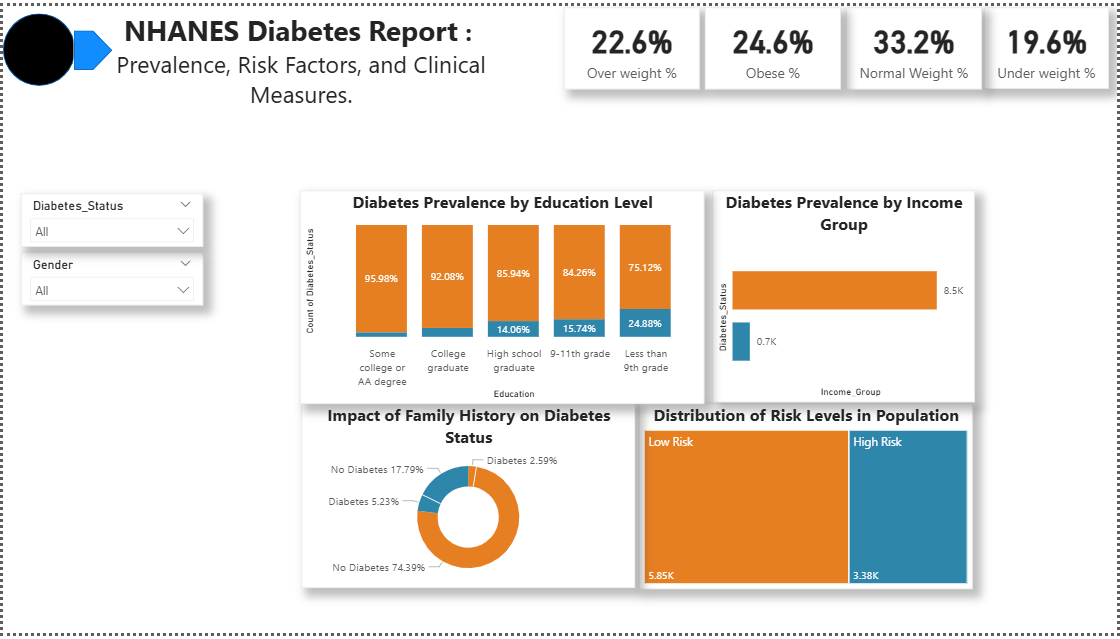

What the dashboard file says about the page in this screenshot:
{"tool":"powerbi","page":{"name":"Demographics & Risk Factors","canvas":[1280,720],"ordinal":1},"visuals":[{"type":"textbox","box":[91.4,0,502.5,149.4],"z":0,"group":"g3"},{"type":"treemap","title":"Distribution of Risk Levels in Population","fields":{"Values":["CountNonNull(diabetes_analysis.Risk_Level)"],"Details":["diabetes_analysis.Risk_Level"]},"box":[730.7,456.9,383.3,213.1],"z":0},{"type":"group","id":"g1","title":"Group 1","box":[0,8.6,126.1,83.1],"z":1000,"group":"g3"},{"type":"clusteredBarChart","title":"Diabetes Prevalence by Income Group","fields":{"Category":["diabetes_analysis.Diabetes_Status"],"Y":["CountNonNull(diabetes_analysis.Income_Group)"]},"box":[814.8,211.5,301.2,243.2],"z":1000},{"type":"donutChart","title":"Impact of Family History on Diabetes Status","fields":{"Y":["CountNonNull(diabetes_analysis.ID)"],"Category":["diabetes_analysis.Family_Diabetes"],"Series":["diabetes_analysis.Diabetes_Status"]},"box":[343,457.3,383.2,211.7],"z":2000},{"type":"card","fields":{"Values":["measure.Underweight %"]},"box":[1128,1,143.2,93.1],"z":3000},{"type":"slicer","fields":{"Values":["diabetes_analysis.Gender"]},"box":[21.5,282.2,209.1,61.6],"z":4000},{"type":"slicer","fields":{"Values":["diabetes_analysis.Diabetes_Status"]},"box":[21.5,214.9,209.1,61.6],"z":5000},{"type":"hundredPercentStackedColumnChart","title":"Diabetes Prevalence by Education Level","fields":{"Category":["diabetes_analysis.Education"],"Y":["CountNonNull(diabetes_analysis.Diabetes_Status)"],"Series":["diabetes_analysis.Diabetes_Status"]},"box":[342.2,211.7,464.5,245.2],"z":6000},{"type":"card","fields":{"Values":["measure.Normal Weight %"]},"box":[969.6,2.3,155.9,93.8],"z":7000},{"type":"card","fields":{"Values":["measure.Over weight %"]},"box":[645.1,2.3,155.9,93.8],"z":8000},{"type":"shape","box":[0,8.6,83.1,83.1],"z":8000,"group":"g1"},{"type":"card","fields":{"Values":["measure.Obese %"]},"box":[807.4,2.3,155.9,93.8],"z":9000},{"type":"shape","box":[80.2,27.2,45.8,47.3],"z":9000,"group":"g1"},{"type":"group","id":"g2","title":"Group 2","box":[0,0,593.9,150],"z":10000},{"type":"group","id":"g3","title":"Group 3","box":[0,0,593.8,149.4],"z":10001,"group":"g2"}]}

Visuals, with their boxes in screenshot pixels (x1, y1, x2, y2), scaled from the page's 1280x720 canvas onto the 1120x639 screenshot:
textbox: [80, 0, 520, 133]
"Distribution of Risk Levels in Population" treemap: [639, 405, 975, 595]
"Group 1" group: [0, 8, 110, 81]
"Diabetes Prevalence by Income Group" clusteredBarChart: [713, 188, 976, 404]
"Impact of Family History on Diabetes Status" donutChart: [300, 406, 635, 594]
card - measure.Underweight %: [987, 1, 1112, 84]
slicer - diabetes_analysis.Gender: [19, 250, 202, 305]
slicer - diabetes_analysis.Diabetes_Status: [19, 191, 202, 245]
"Diabetes Prevalence by Education Level" hundredPercentStackedColumnChart: [299, 188, 706, 405]
card - measure.Normal Weight %: [848, 2, 985, 85]
card - measure.Over weight %: [564, 2, 701, 85]
shape: [0, 8, 73, 81]
card - measure.Obese %: [706, 2, 843, 85]
shape: [70, 24, 110, 66]
"Group 2" group: [0, 0, 520, 133]
"Group 3" group: [0, 0, 520, 133]
